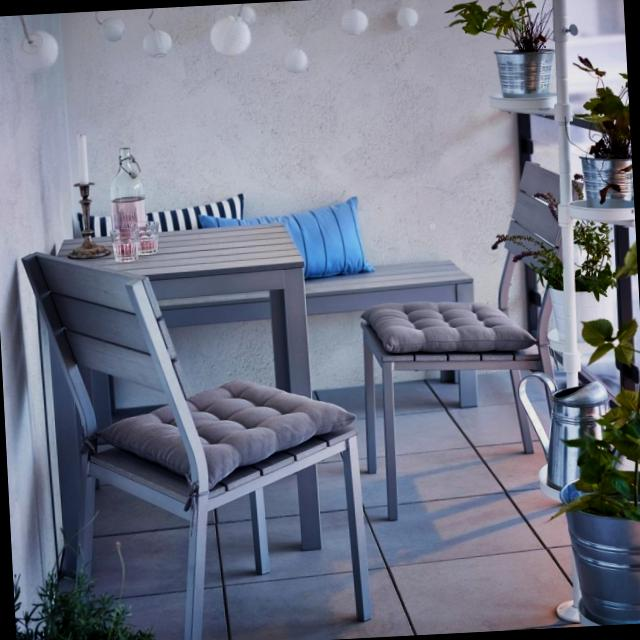obstacle: (18, 233, 375, 640), (348, 154, 602, 524)
